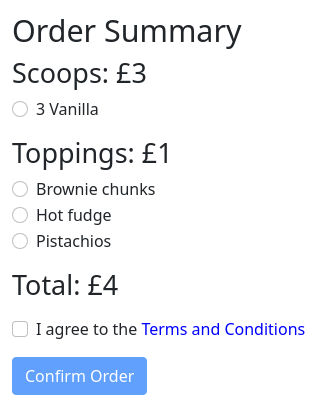
SummaryForm › Popover responds to hover event
Expected: the text "no ice cream will actually be delivered" is not shown
Hover over the text "Terms and Conditions" at {"x": 223, "y": 329}, box [141, 318, 305, 340]
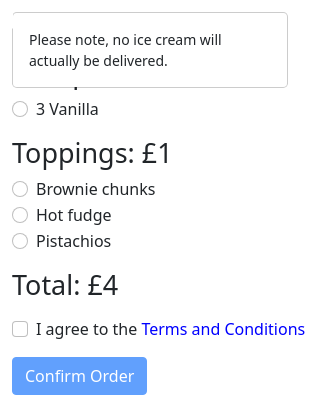
Now the text "Please note, no ice cream will actually be delivered." is shown, box [29, 30, 222, 70]
Move the pointer off the text "Terms and Conditions", box [141, 318, 305, 340]
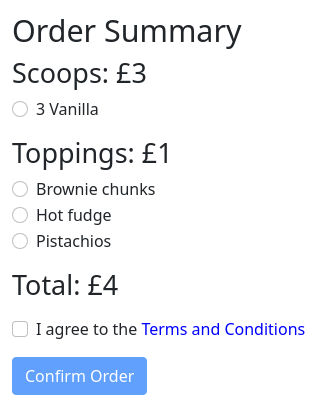
Now the text "no ice cream will actually be delivered" is gone
